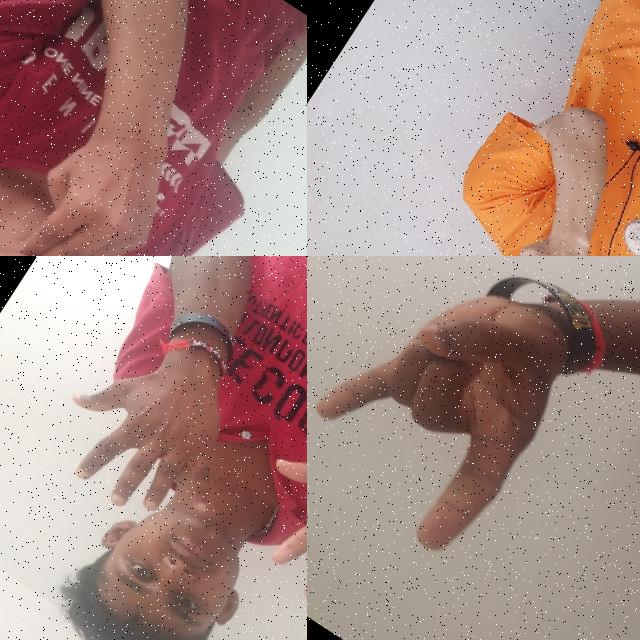Chin Flick: (0, 15, 231, 256), (405, 199, 640, 256)
Corna: (307, 256, 632, 579)
Moutza: (25, 298, 281, 556), (216, 392, 307, 640)
